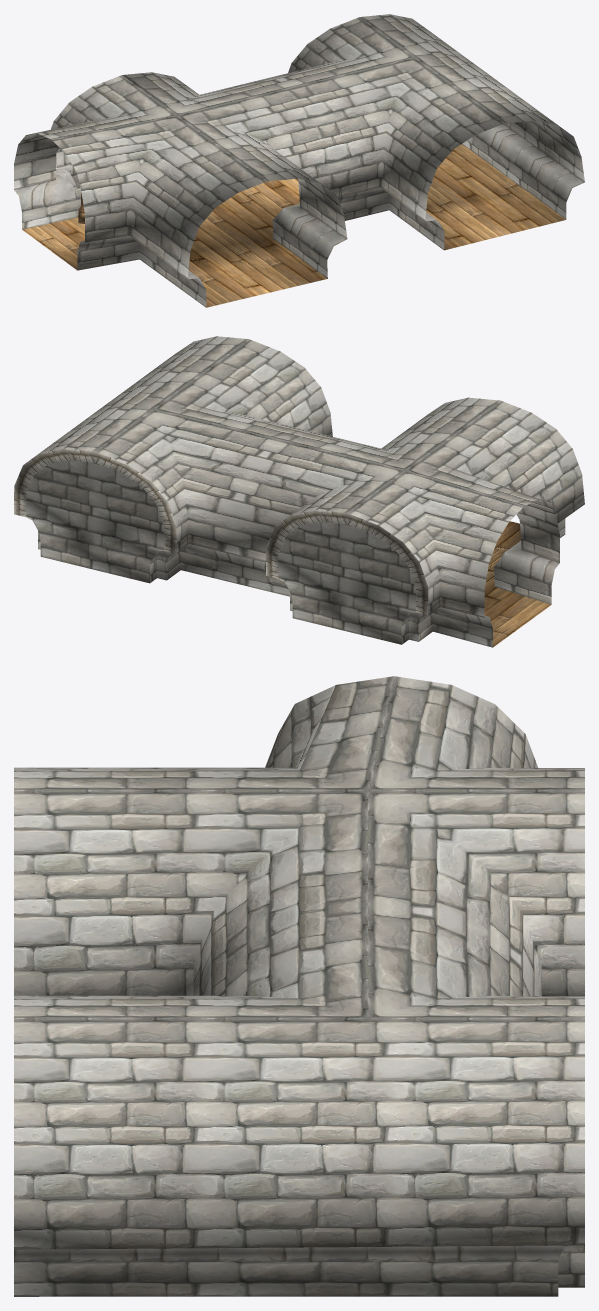
File: stormwind_194.fbx
3 renders of one model, top to bottom at view 1: azimuth 30°, elevation 25°; view 2: azimuth 150°, elevation 25°; view 3: azimuth 270°, elevation 25°, orthographic. The views are drawn at different scales.
Parts seen in each view (by area): view 1: stormwind_194_39, stormwind_194_181, stormwind_194_45; view 2: stormwind_194_39, stormwind_194_40, stormwind_194_45, stormwind_194_181; view 3: stormwind_194_39, stormwind_194_45.
Part boxes in pixels (<box>): stormwind_194_39: <box>14,14,584,307</box>; stormwind_194_181: <box>22,144,565,307</box>; stormwind_194_45: <box>14,124,584,289</box>; stormwind_194_39: <box>26,336,584,647</box>; stormwind_194_40: <box>14,448,428,615</box>; stormwind_194_45: <box>33,521,559,628</box>; stormwind_194_181: <box>484,521,550,647</box>; stormwind_194_39: <box>14,676,584,1296</box>; stormwind_194_45: <box>14,1245,584,1262</box>.
Bounding box in the file's own units: 48.25 × 11.86 × 27.79.
